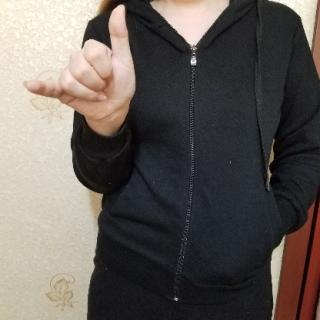YA: (16, 1, 144, 128)
